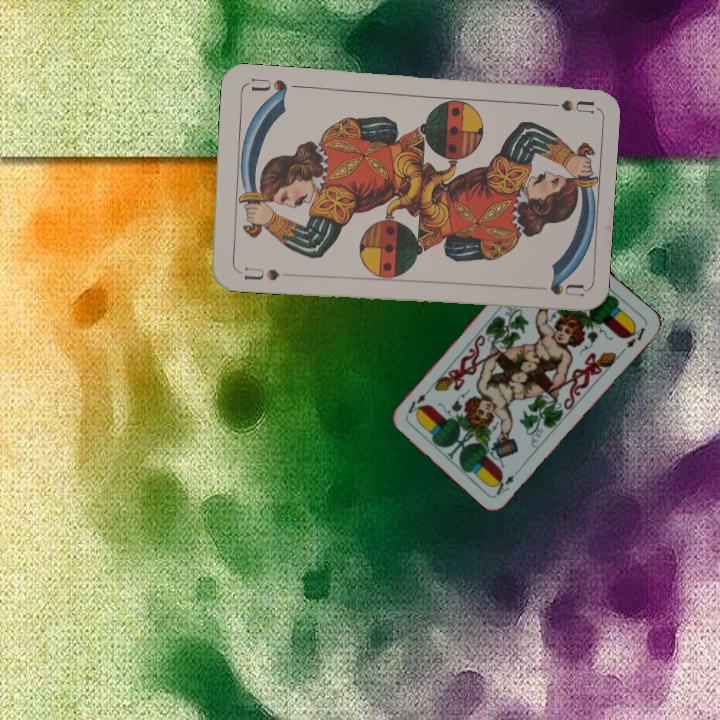EA: (491, 464, 523, 498)
SU: (535, 96, 594, 116), (234, 263, 282, 284)
